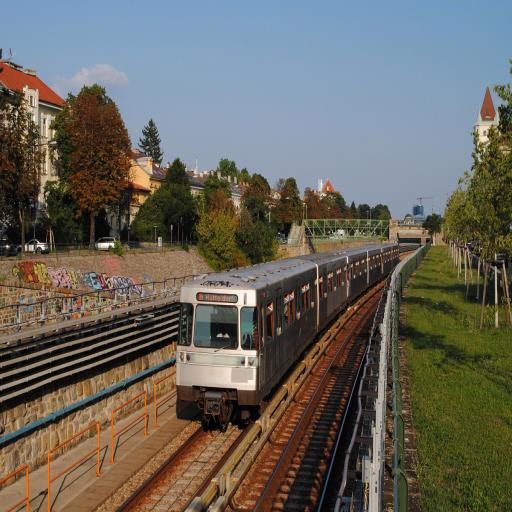Silberpfeil: (174, 239, 400, 417)
